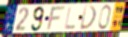0: (98, 4, 112, 31)
2: (15, 7, 30, 33)
9: (30, 6, 46, 33)
D: (79, 5, 98, 31)
F: (45, 6, 67, 32)
L: (63, 6, 76, 31)
